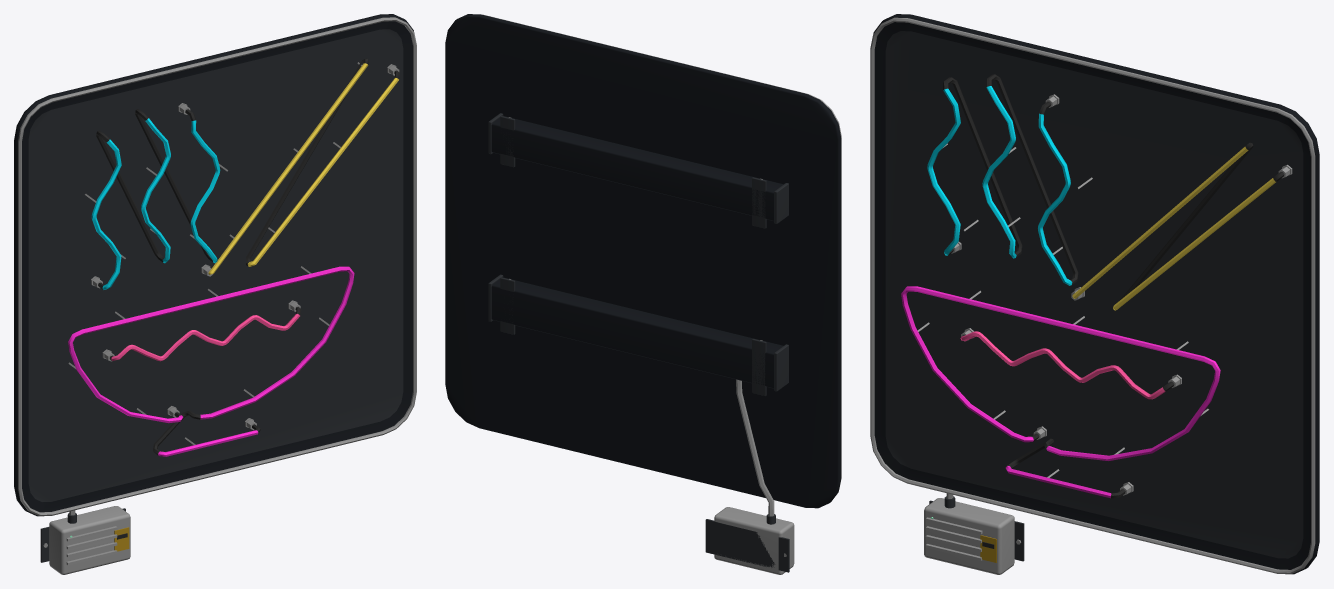
The model's file is Neon_Bowl.fbx.
The picture shows the model from 3 angles, left to right: view 1: azimuth 30°, elevation 25°; view 2: azimuth 150°, elevation 25°; view 3: azimuth 330°, elevation 25°; orthographic projection. The views are drawn at different scales.
Visible parts, largest first — view 1: Neon_Bowl_LOD0; view 2: Neon_Bowl_LOD0; view 3: Neon_Bowl_LOD0.
Boxes of the visible parts, x1=… form: Neon_Bowl_LOD0: x1=14, y1=14, x2=416, y2=574; Neon_Bowl_LOD0: x1=445, y1=14, x2=841, y2=574; Neon_Bowl_LOD0: x1=870, y1=14, x2=1319, y2=574.
Size of what is drawn, in the model's own units: 1.38 by 1.59 by 0.1695.
